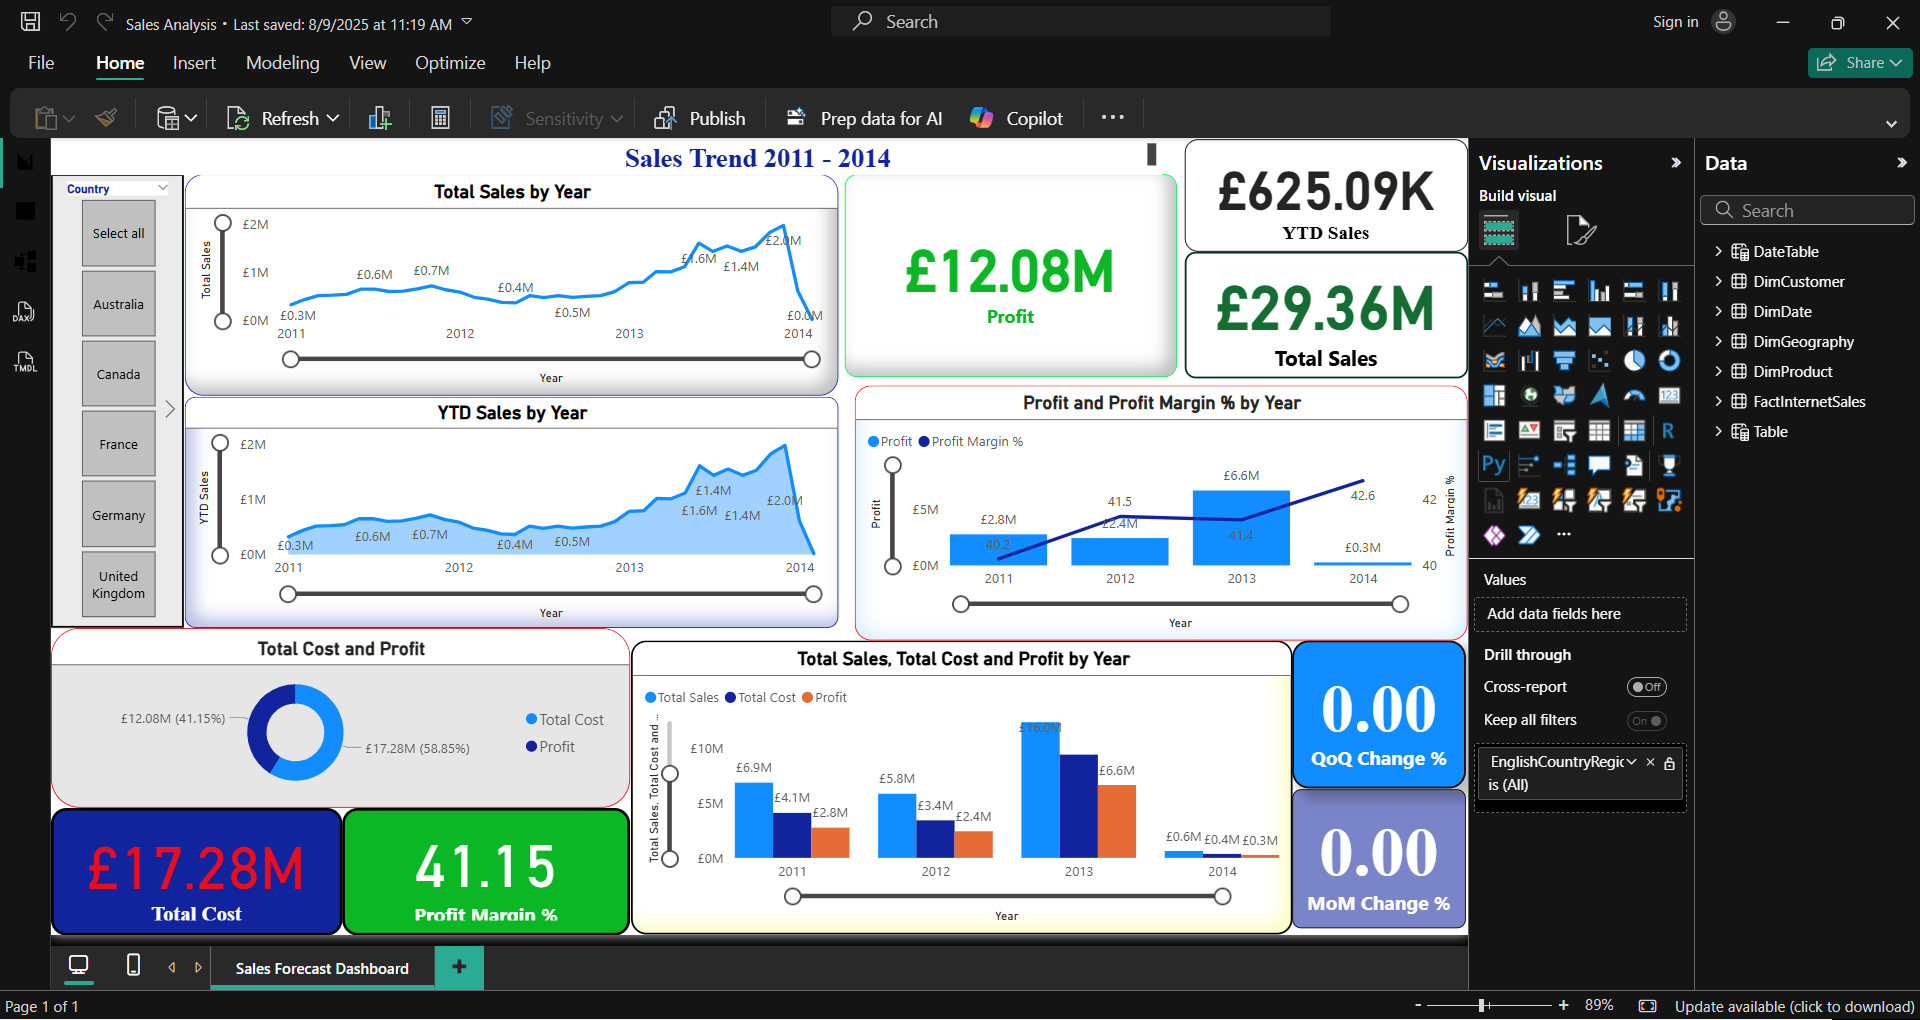

The dashboard page shown, as its layout file describes it:
{"tool":"powerbi","page":{"name":"Sales Forecast Dashboard","canvas":[1280,720],"ordinal":0},"visuals":[{"type":"stackedAreaChart","title":"YTD Sales by Year","fields":{"Category":["DimDate.FullDateAlternateKey.Variation.Date Hierarchy.Year","DimDate.FullDateAlternateKey.Variation.Date Hierarchy.Quarter","DimDate.FullDateAlternateKey.Variation.Date Hierarchy.Month"],"Y":["Table.YTD Sales"]},"box":[120.3,233.4,590.7,209.2],"z":0},{"type":"lineChart","title":"Total Sales by Year","fields":{"Y":["Table.Total Sales"],"Category":["DimDate.FullDateAlternateKey.Variation.Date Hierarchy.Year","DimDate.FullDateAlternateKey.Variation.Date Hierarchy.Quarter","DimDate.FullDateAlternateKey.Variation.Date Hierarchy.Month","DimDate.FullDateAlternateKey.Variation.Date Hierarchy.Day"]},"box":[120.3,33.2,590.7,200.2],"z":1000},{"type":"card","fields":{"Values":["Table.YTD Sales"]},"box":[1024.3,0.9,255.9,101.4],"z":2000},{"type":"card","fields":{"Values":["Table.Total Sales"]},"box":[1024.3,102.3,255.9,114],"z":3000},{"type":"card","fields":{"Values":["Table.MoM Change %"]},"box":[1121.3,588,157.1,125.7],"z":4000},{"type":"card","fields":{"Values":["Table.QoQ Change %"]},"box":[1121.3,453.4,157.1,133.8],"z":5000},{"type":"card","fields":{"Values":["Table.Total Cost"]},"box":[0,605.1,263,114.9],"z":6000},{"type":"card","fields":{"Values":["Table.Profit Margin %"]},"box":[263,605.1,260.3,114.9],"z":7000},{"type":"card","fields":{"Values":["Table.Profit"]},"box":[717.3,33.2,299.9,183.1],"z":8000},{"type":"clusteredColumnChart","fields":{"Category":["FactInternetSales.DueDate.Variation.Date Hierarchy.Year","FactInternetSales.DueDate.Variation.Date Hierarchy.Quarter","FactInternetSales.DueDate.Variation.Date Hierarchy.Month","FactInternetSales.DueDate.Variation.Date Hierarchy.Day"],"Y":["Table.Total Sales","Table.Total Cost","Table.Profit"]},"box":[523.4,454.3,597.9,265.7],"z":9000},{"type":"lineClusteredColumnComboChart","fields":{"Y2":["Table.Profit Margin %"],"Y":["Table.Profit"],"Category":["DimDate.FullDateAlternateKey.Variation.Date Hierarchy.Year"]},"box":[726.3,223.5,553.9,230.7],"z":10000},{"type":"donutChart","fields":{"Y":["Table.Total Cost","Table.Profit"]},"box":[0,442.6,523.4,162.5],"z":11000},{"type":"slicer","fields":{"Values":["DimGeography.EnglishCountryRegionName"]},"box":[0,33.2,120.3,409.4],"z":12000},{"type":"textbox","box":[0,0,1003.7,33.2],"z":13000}]}

Visuals, with their boxes on the page's 1280x720 design canvas (x1, y1, x2, y2). These are canvas units, not pixel positions in the 1920x1020 screenshot, which may show the page scaled, cropped or inside an application window:
"YTD Sales by Year" stackedAreaChart: locate(120, 233, 711, 443)
"Total Sales by Year" lineChart: locate(120, 33, 711, 233)
card - Table.YTD Sales: locate(1024, 1, 1280, 102)
card - Table.Total Sales: locate(1024, 102, 1280, 216)
card - Table.MoM Change %: locate(1121, 588, 1278, 714)
card - Table.QoQ Change %: locate(1121, 453, 1278, 587)
card - Table.Total Cost: locate(0, 605, 263, 720)
card - Table.Profit Margin %: locate(263, 605, 523, 720)
card - Table.Profit: locate(717, 33, 1017, 216)
clusteredColumnChart - FactInternetSales.DueDate.Variation.Date Hierarchy.Year x FactInternetSales.DueDate.Variation.Date Hierarchy.Quarter: locate(523, 454, 1121, 720)
lineClusteredColumnComboChart - Table.Profit Margin % x Table.Profit: locate(726, 224, 1280, 454)
donutChart - Table.Total Cost x Table.Profit: locate(0, 443, 523, 605)
slicer - DimGeography.EnglishCountryRegionName: locate(0, 33, 120, 443)
textbox: locate(0, 0, 1004, 33)
